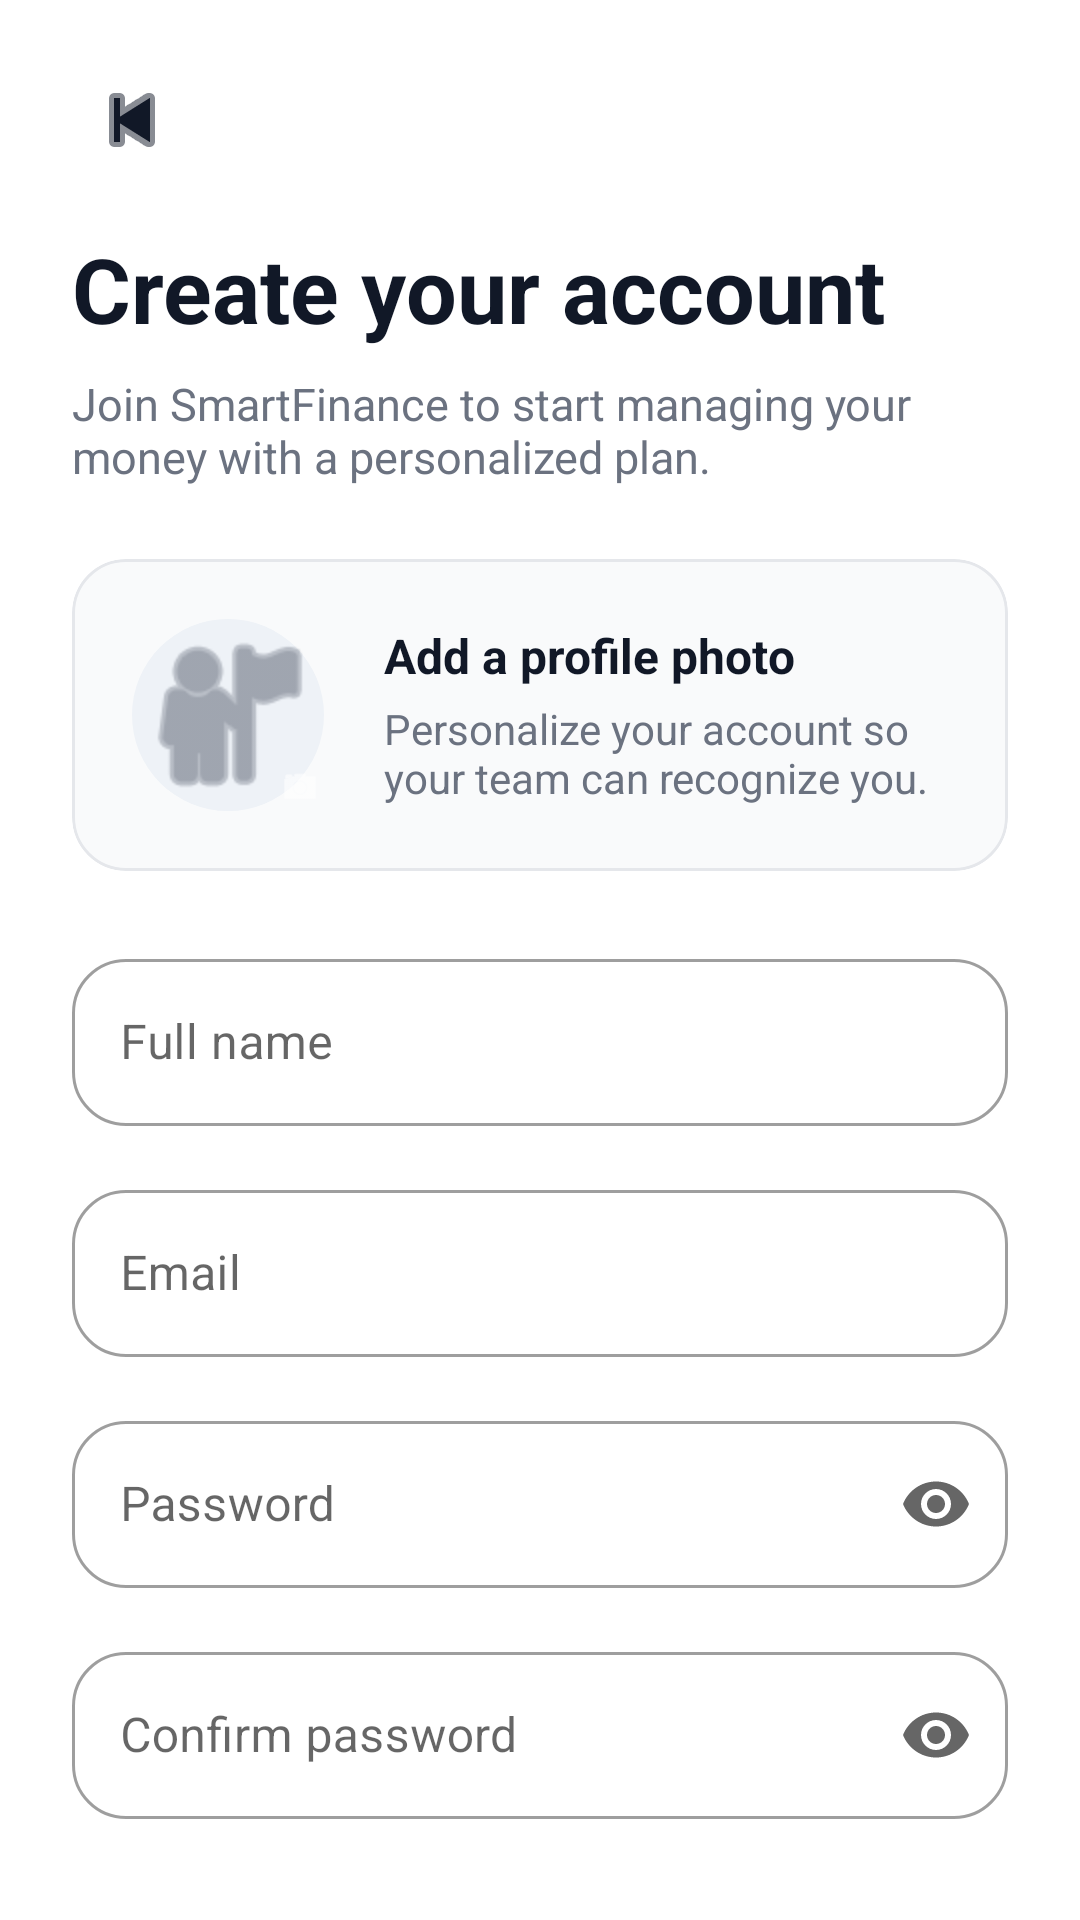

Named icons in this screenshot (1080w x 1920h) and their centers, [x,y]:
Go back: [132,120]
